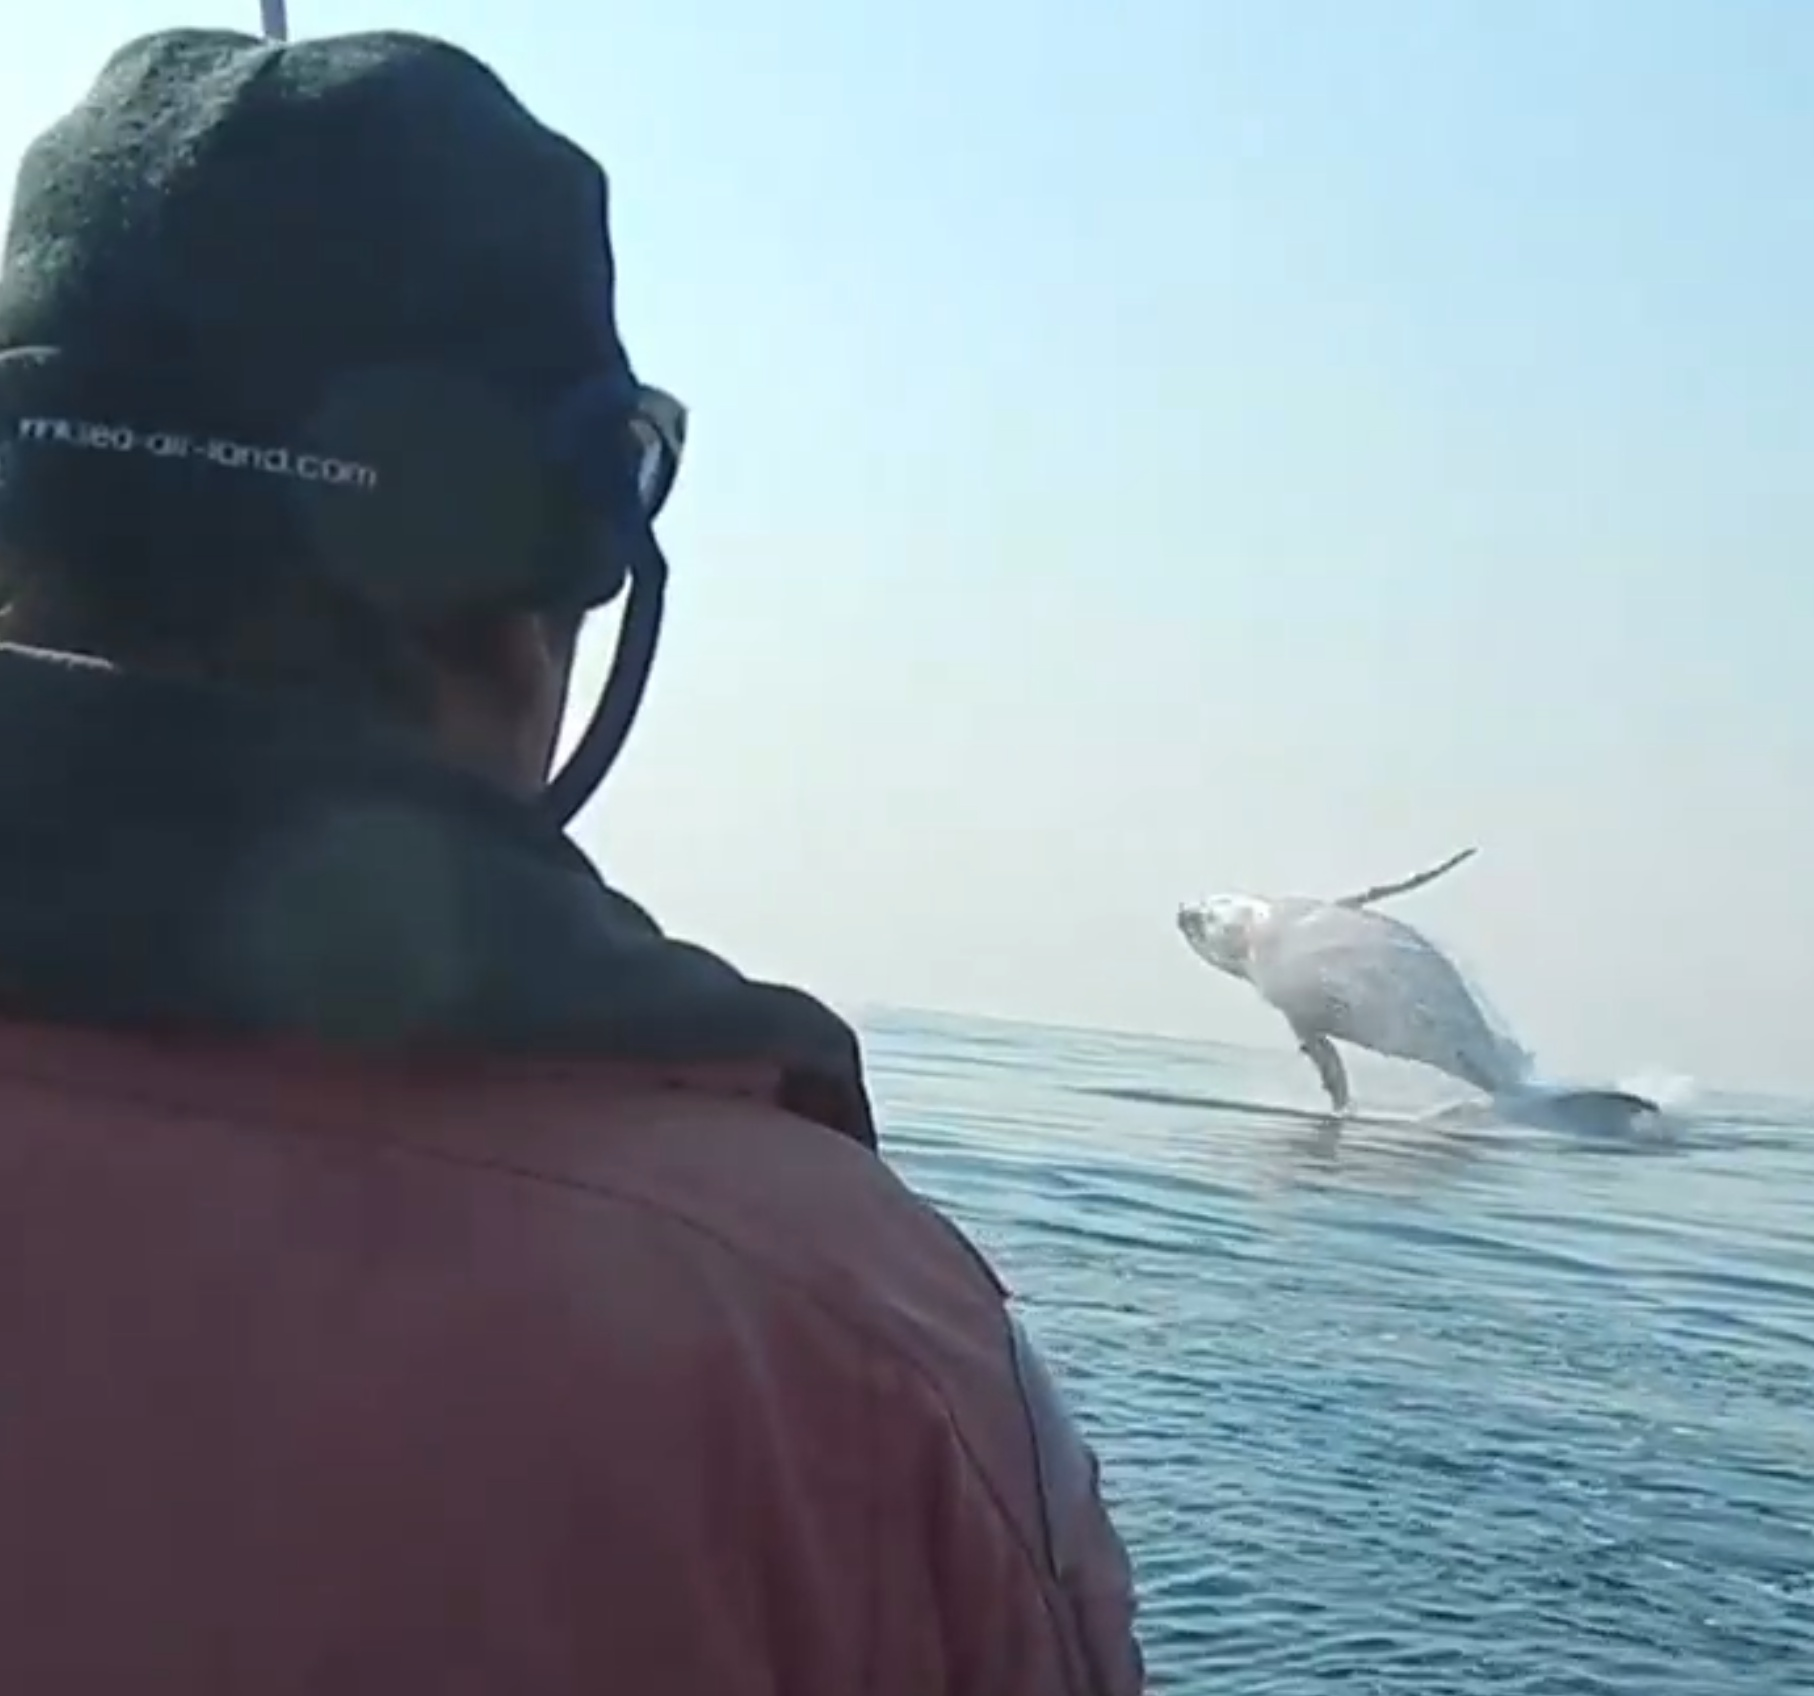humpback: (1172, 874, 1537, 1106)
